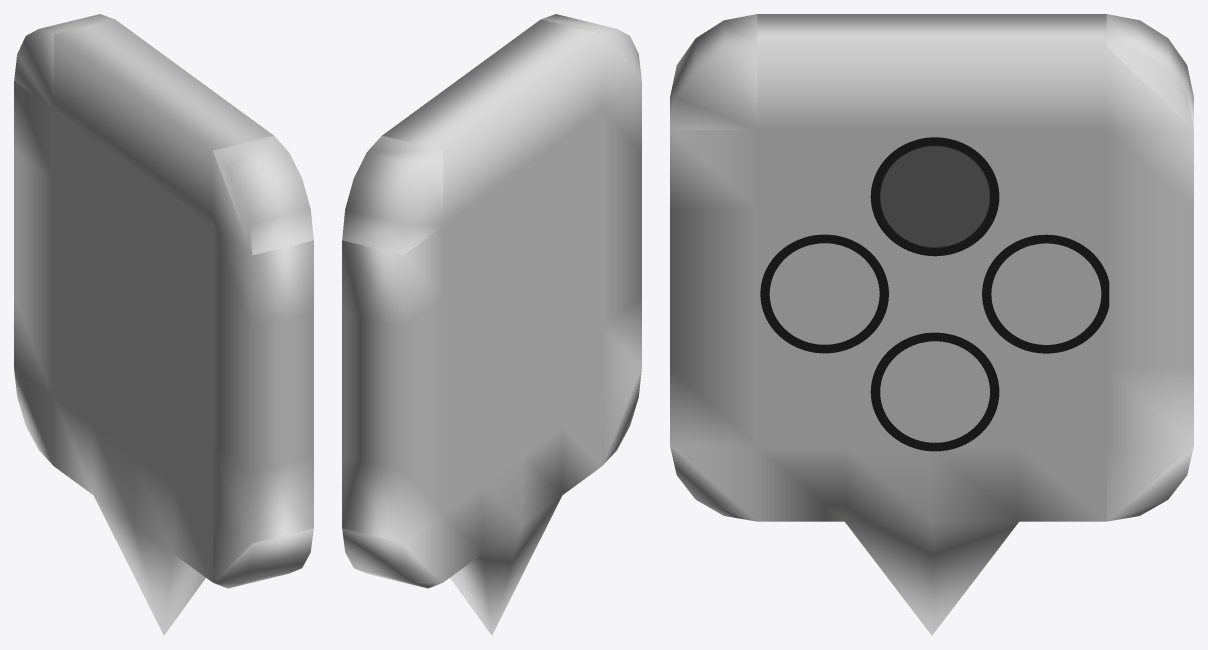
Rendered from CHAT_BUBBLE_LEFT.fbx.
3 views of the same model, side by side, from view 1: azimuth 30°, elevation 25°; view 2: azimuth 150°, elevation 25°; view 3: azimuth 270°, elevation 25° (orthographic). The views are drawn at different scales.
Visible parts, largest first — view 1: Bubble; view 2: Bubble; view 3: Bubble.
Boxes of the visible parts, x1=… form: Bubble: x1=14, y1=14, x2=313, y2=635; Bubble: x1=342, y1=14, x2=641, y2=635; Bubble: x1=670, y1=14, x2=1193, y2=635.
Bounding box in the file's own units: 35.09 × 255 × 200.
Materials: 2 (1 with a texture image).
